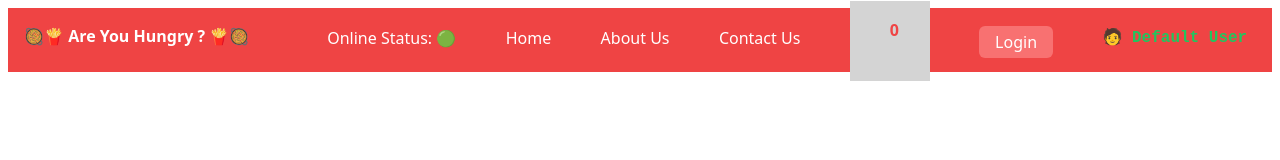
Test: Should change to Login button to Logout on click
Step 1. Click the button → (1016, 42), box [979,26,1053,58]
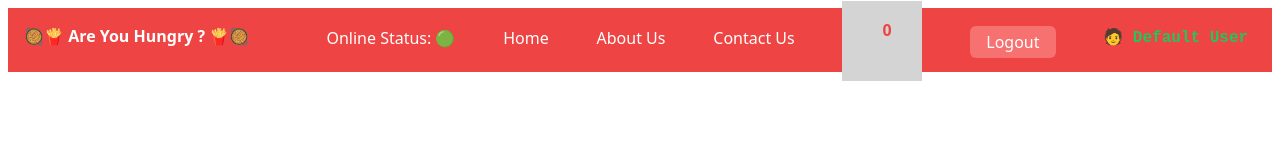
Now the button "Logout" is shown, box [970,26,1056,58]
